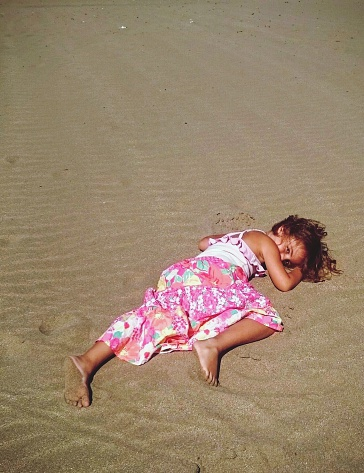deitado: (29, 198, 349, 406)
